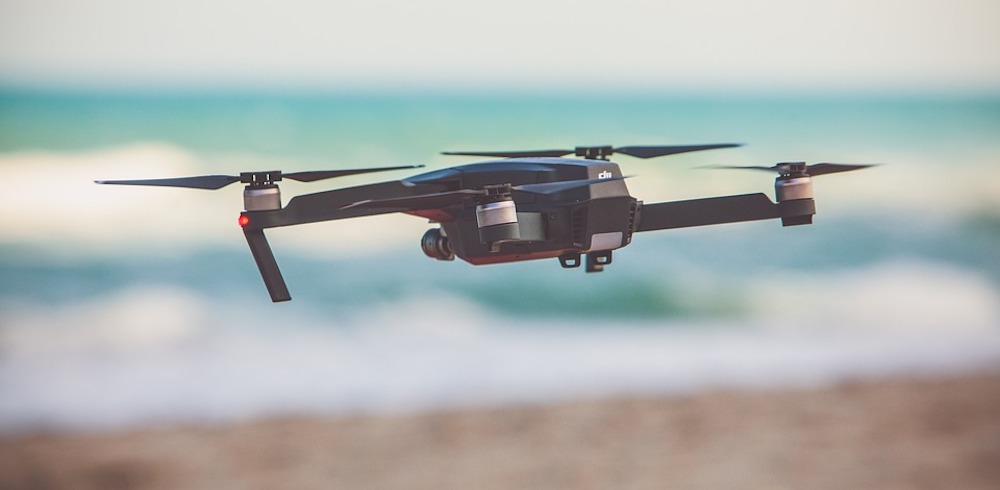drone: (74, 126, 897, 310)
